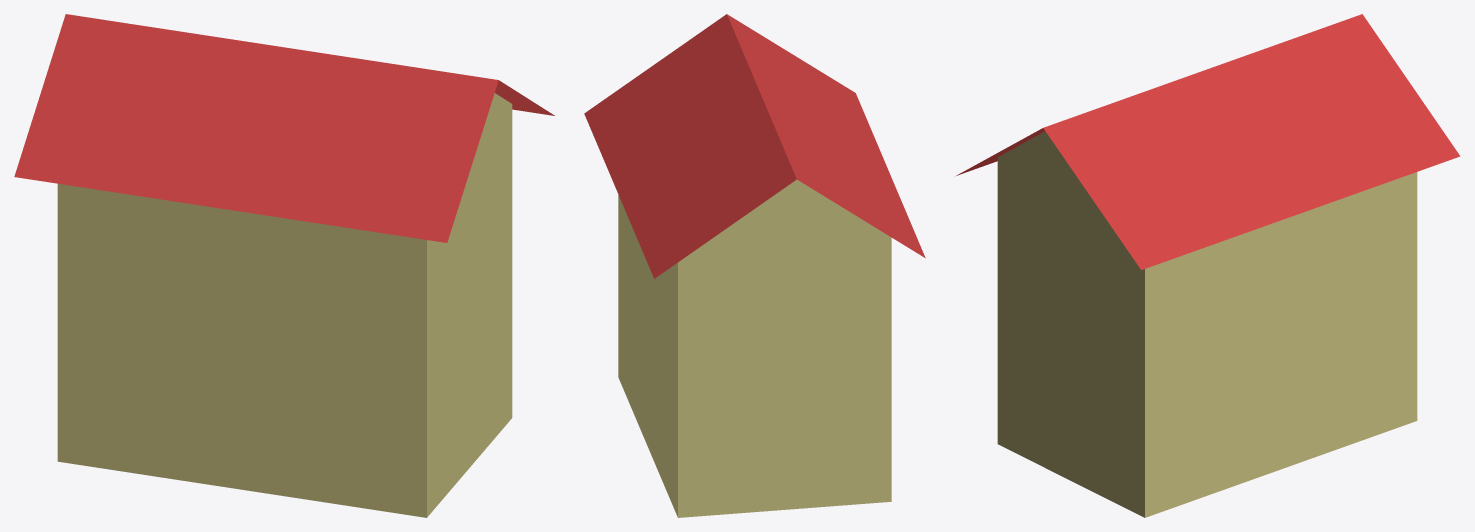
The picture shows the model from 3 angles, left to right: view 1: azimuth 30°, elevation 25°; view 2: azimuth 150°, elevation 25°; view 3: azimuth 270°, elevation 25°; orthographic projection. The views are drawn at different scales.
Visible parts, largest first — view 1: group_5, group_3, group_4; view 2: group_5, group_3, group_4; view 3: group_5, group_3.
Boxes of the visible parts, box(x1,y1,x2,y2) form: group_5: box(57, 93, 512, 517); group_3: box(14, 15, 498, 242); group_4: box(15, 14, 554, 242); group_5: box(618, 179, 891, 517); group_3: box(584, 14, 925, 278); group_4: box(727, 14, 925, 257); group_5: box(997, 131, 1417, 517); group_3: box(963, 14, 1460, 269).
Size of the model in its own units: 7.98 by 8.22 by 6.44.
